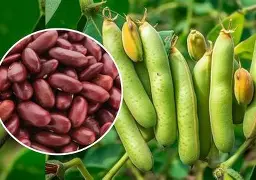crops: (106, 12, 252, 169), (1, 29, 116, 152), (78, 140, 161, 180), (33, 0, 104, 36), (168, 0, 222, 41)
